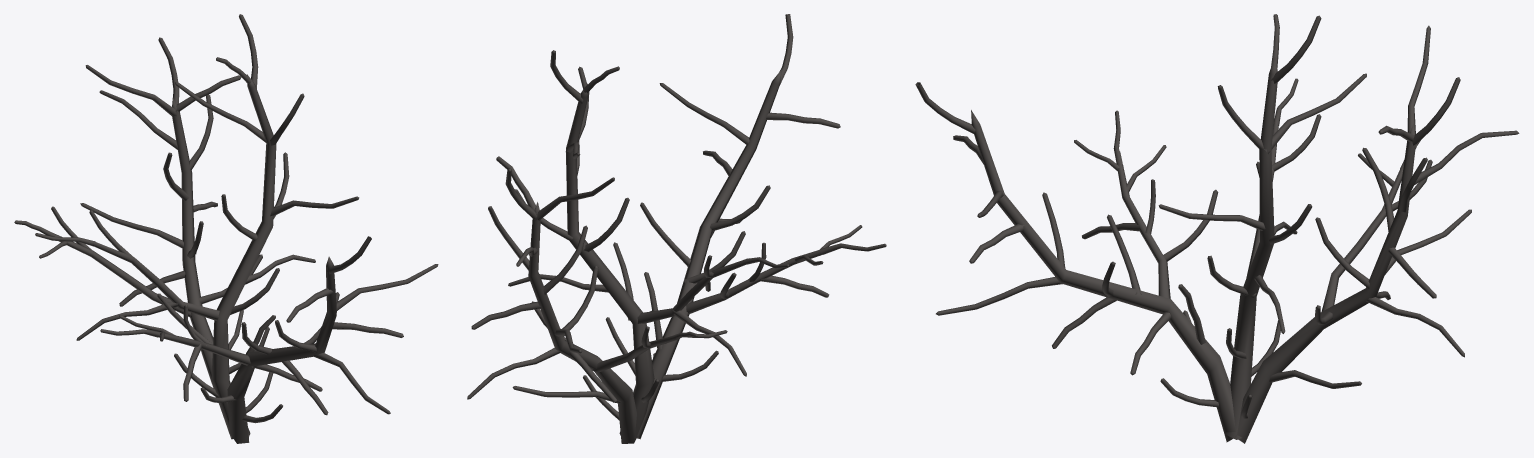
Rendered from P_bush_dead_01_LD.fbx.
The picture shows the model from 3 angles, left to right: view 1: azimuth 30°, elevation 25°; view 2: azimuth 150°, elevation 25°; view 3: azimuth 270°, elevation 25°; orthographic projection. The views are drawn at different scales.
Parts seen in each view (by area): view 1: P_bush_dead_01; view 2: P_bush_dead_01; view 3: P_bush_dead_01.
Part boxes in pixels (bbox=[...]): P_bush_dead_01: bbox=[14, 14, 438, 443]; P_bush_dead_01: bbox=[467, 14, 886, 443]; P_bush_dead_01: bbox=[915, 14, 1519, 443].
Size of the model in its own units: 151 by 196 by 240.
